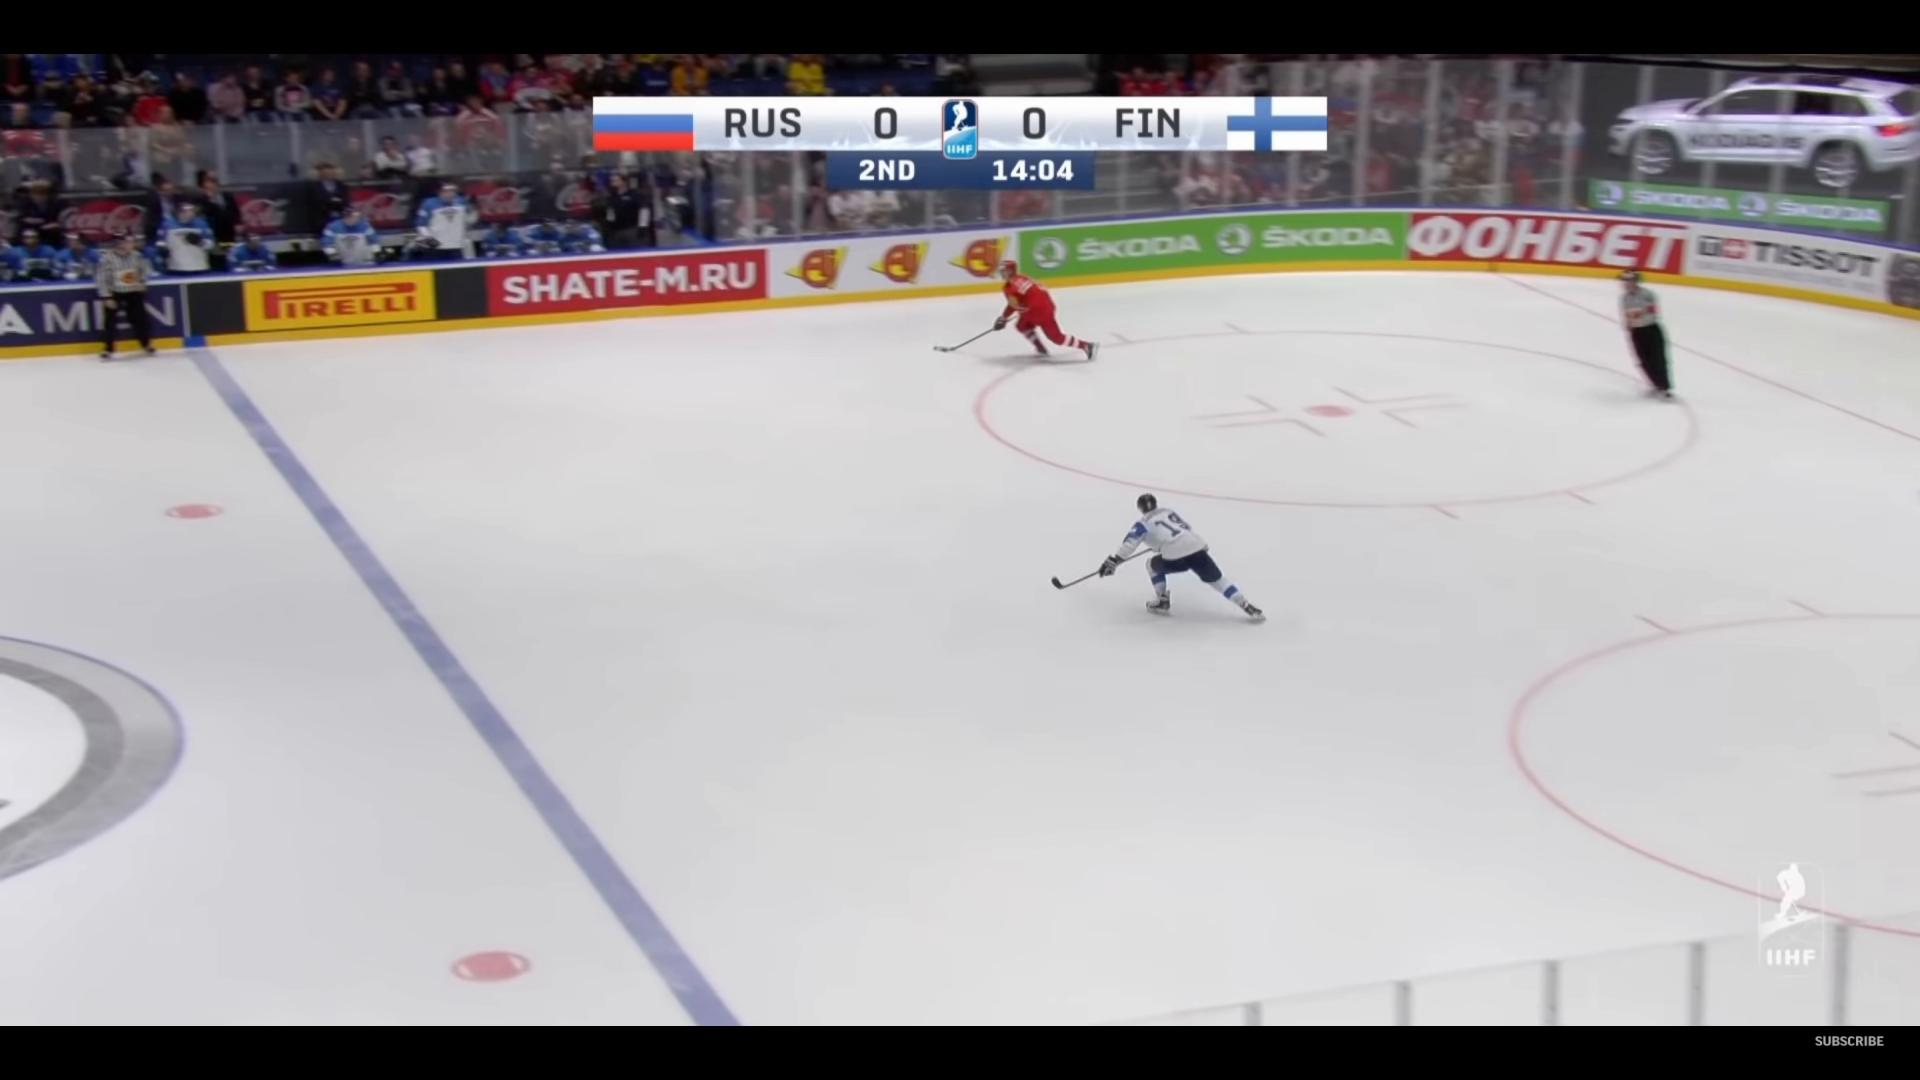puck: (939, 348, 948, 352)
